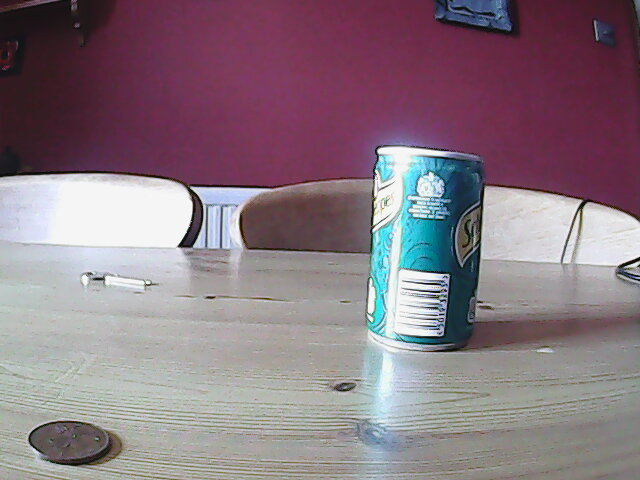Can: (363, 141, 489, 359)
Coin: (22, 417, 116, 467)
Key: (76, 268, 155, 288)
